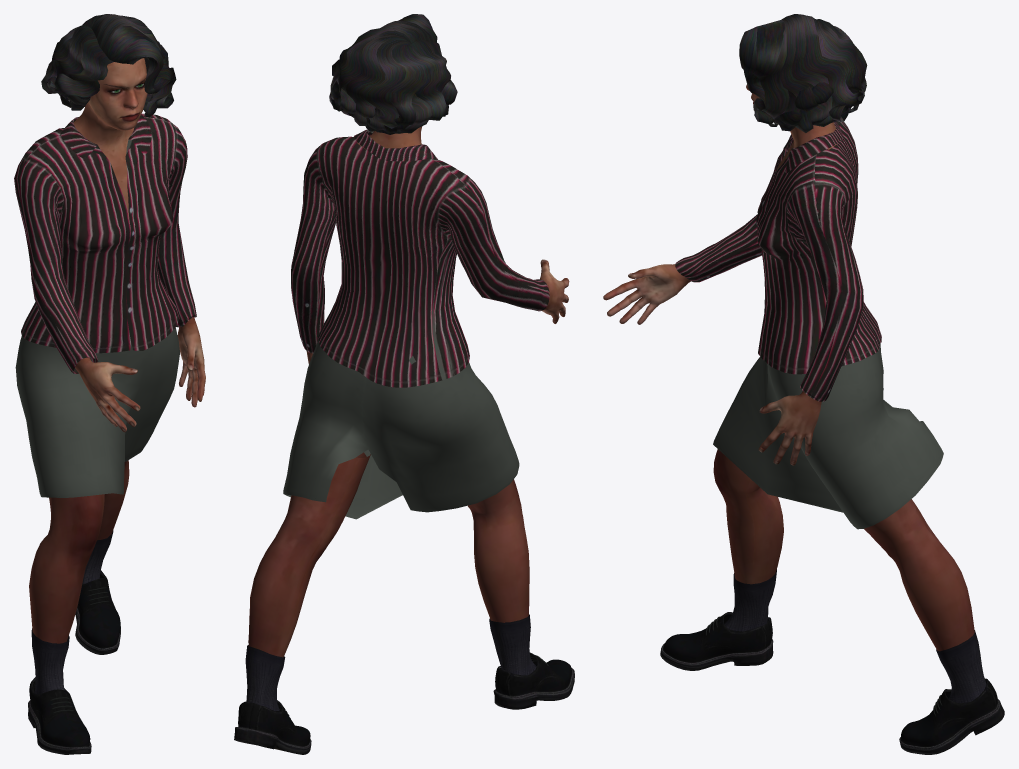
File: donna-03.glb
3 views of the same model, side by side, from view 1: azimuth 30°, elevation 25°; view 2: azimuth 150°, elevation 25°; view 3: azimuth 270°, elevation 25° (orthographic). The views are drawn at different scales.
Visible parts, largest first — view 1: Human.female_elegantsuit01, Human, Human.shoes03, Human.elvs_wavy_bob; view 2: Human.female_elegantsuit01, Human, Human.elvs_wavy_bob, Human.shoes03; view 3: Human.female_elegantsuit01, Human, Human.shoes03, Human.elvs_wavy_bob.
Part boxes in pixels (left/top/right/bottom): Human.female_elegantsuit01: left=14, top=113, right=196, bottom=497; Human: left=29, top=58, right=205, bottom=643; Human.shoes03: left=28, top=530, right=120, bottom=754; Human.elvs_wavy_bob: left=41, top=14, right=176, bottom=117; Human.female_elegantsuit01: left=283, top=129, right=549, bottom=519; Human: left=248, top=126, right=569, bottom=657; Human.elvs_wavy_bob: left=329, top=14, right=457, bottom=134; Human.shoes03: left=234, top=614, right=574, bottom=754; Human.female_elegantsuit01: left=675, top=121, right=943, bottom=529; Human: left=603, top=84, right=974, bottom=651; Human.shoes03: left=660, top=569, right=1004, bottom=754; Human.elvs_wavy_bob: left=739, top=14, right=867, bottom=132.
Size of the model in its own units: 0.5081 by 1.6 by 0.8267.
12 materials, 12 textured.
